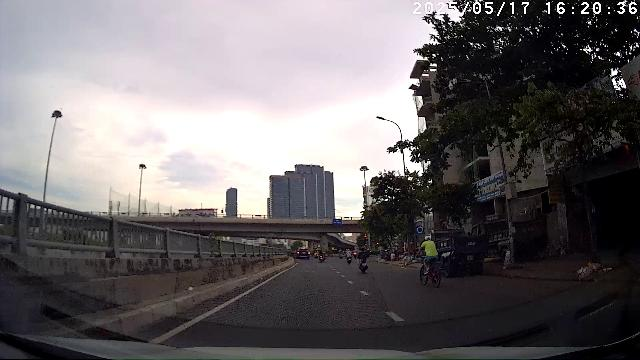303-noi-giao-nhau-chay-theo-vong-xuyen: (416, 226, 424, 234)
